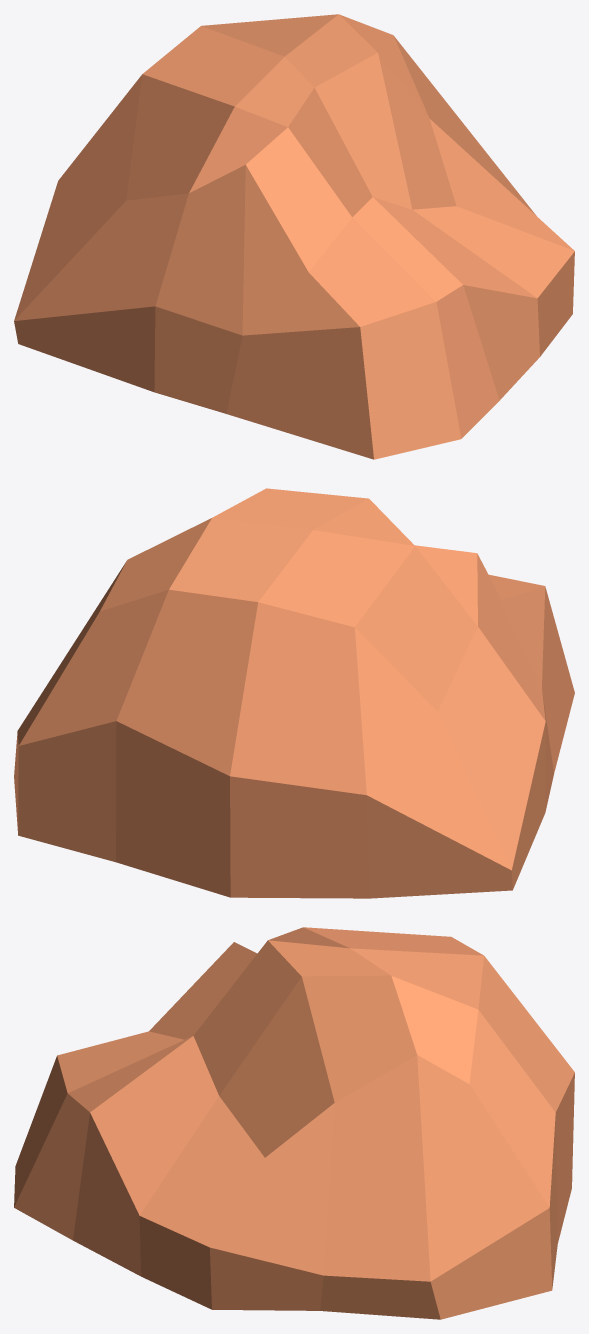
File: Rock_6.fbx
3 views of the same model, one above another, from view 1: azimuth 30°, elevation 25°; view 2: azimuth 150°, elevation 25°; view 3: azimuth 270°, elevation 25° (orthographic). The views are drawn at different scales.
Visible parts, largest first — view 1: Rock_6; view 2: Rock_6; view 3: Rock_6.
Part boxes in pixels (left/top/right/bottom): Rock_6: left=14, top=14, right=574, bottom=459; Rock_6: left=14, top=488, right=574, bottom=898; Rock_6: left=14, top=927, right=574, bottom=1319.
Bounding box in the file's own units: 84.67 × 45.99 × 88.21.
